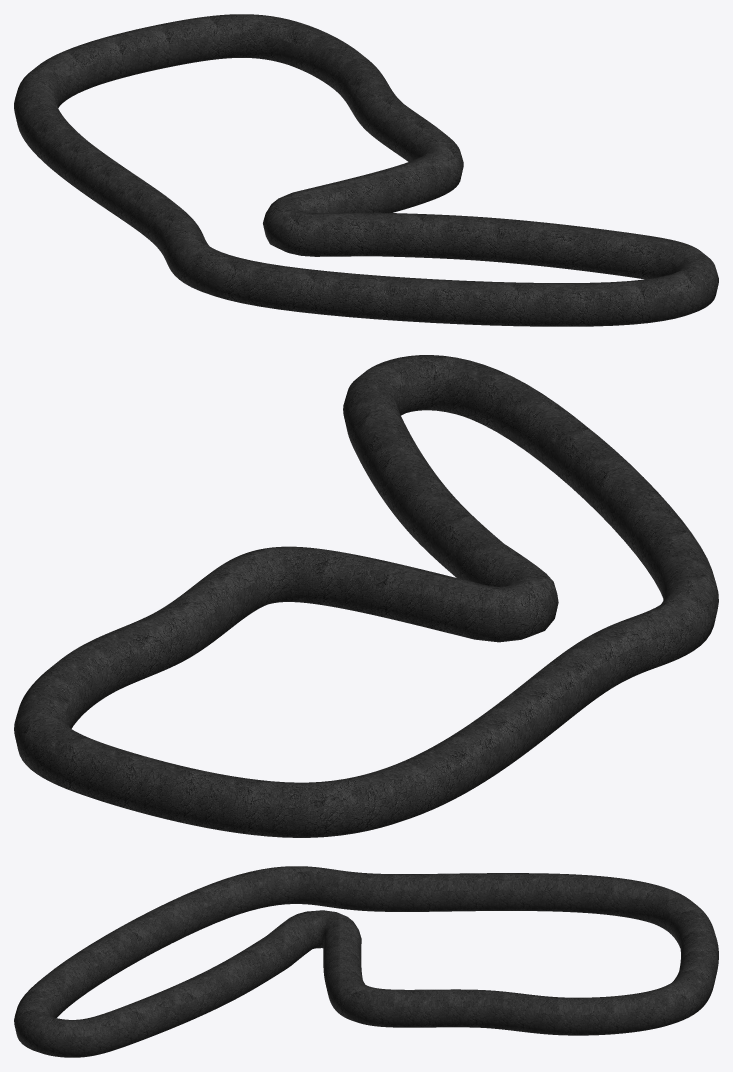
3 renders of one model, top to bottom at view 1: azimuth 30°, elevation 25°; view 2: azimuth 150°, elevation 25°; view 3: azimuth 270°, elevation 25°, orthographic. The views are drawn at different scales.
Visible parts, largest first — view 1: NurbsCurve; view 2: NurbsCurve; view 3: NurbsCurve.
Part boxes in pixels (x1,y1,x2,y2): NurbsCurve: (14,14,718,326); NurbsCurve: (14,355,718,837); NurbsCurve: (14,866,718,1057).
Bounding box in the file's own units: 2959 × 280 × 5191.
